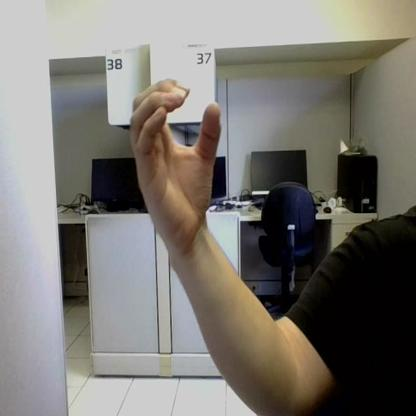C: (131, 79, 221, 248)
